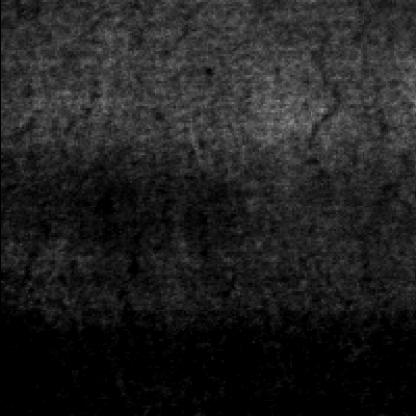crazing: (30, 190, 152, 412), (310, 19, 376, 316)
